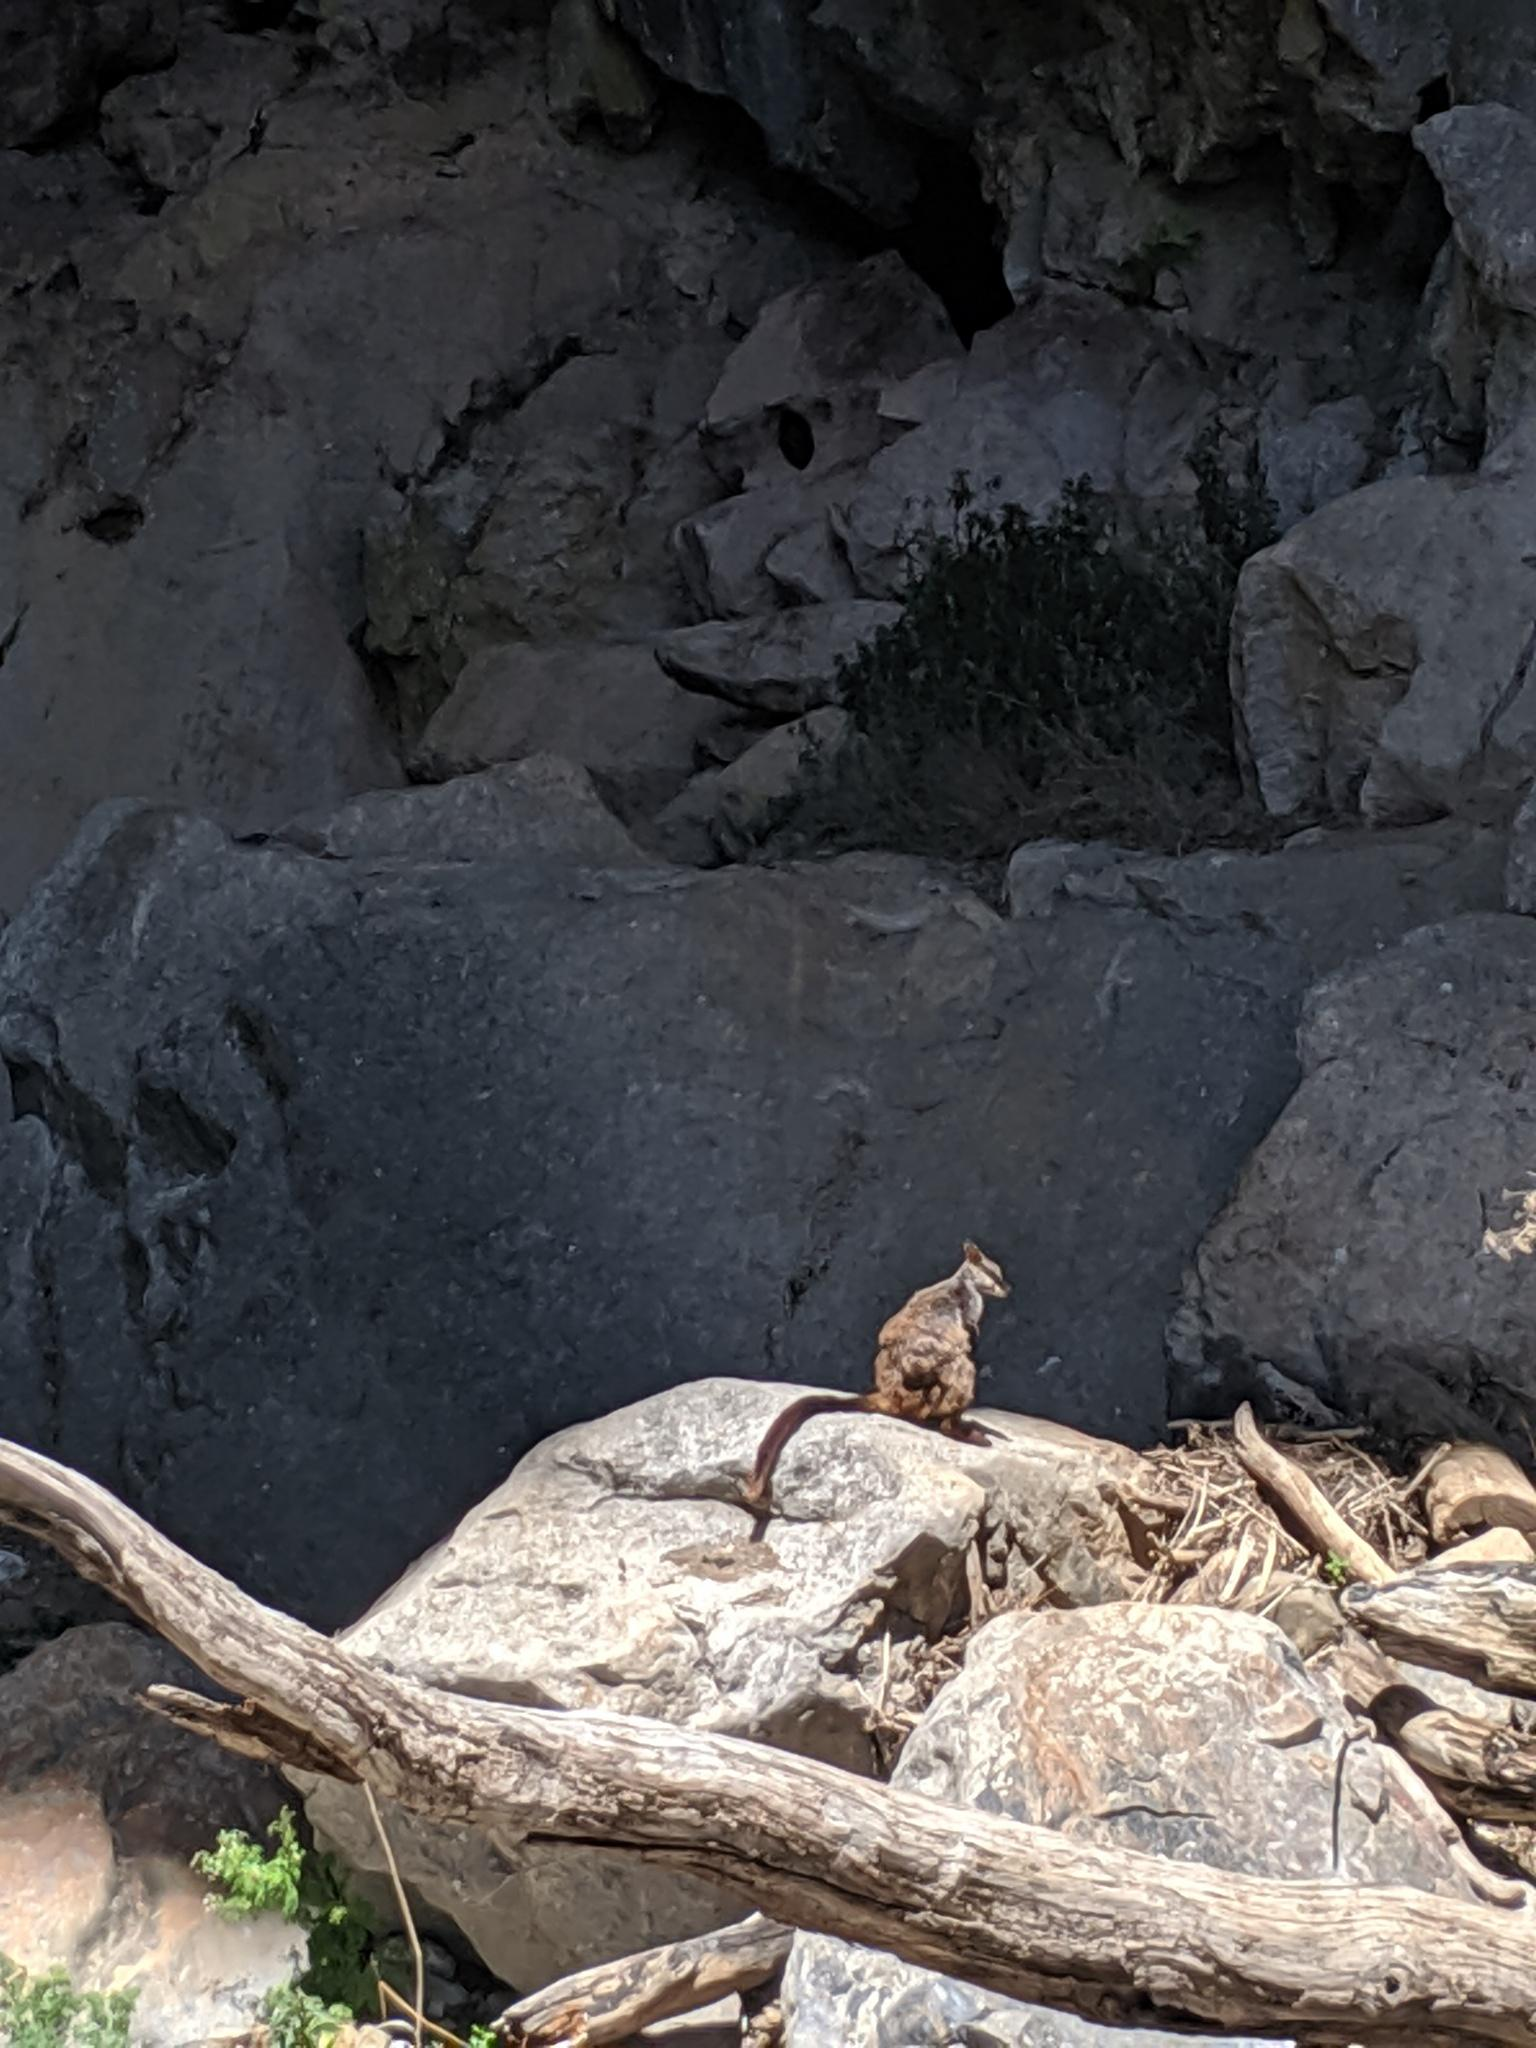Brush-tailed rock-wallaby: (720, 1234, 1026, 1521)
